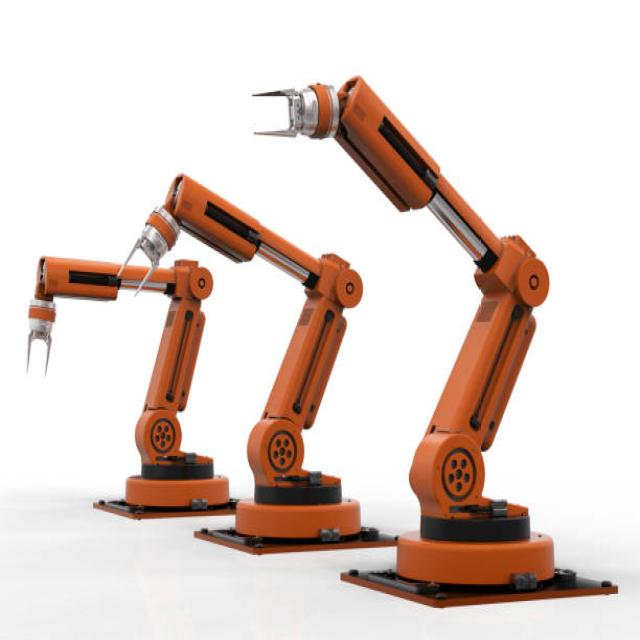Robotic-arm: (277, 56, 601, 618), (137, 164, 371, 563), (17, 243, 224, 522)
